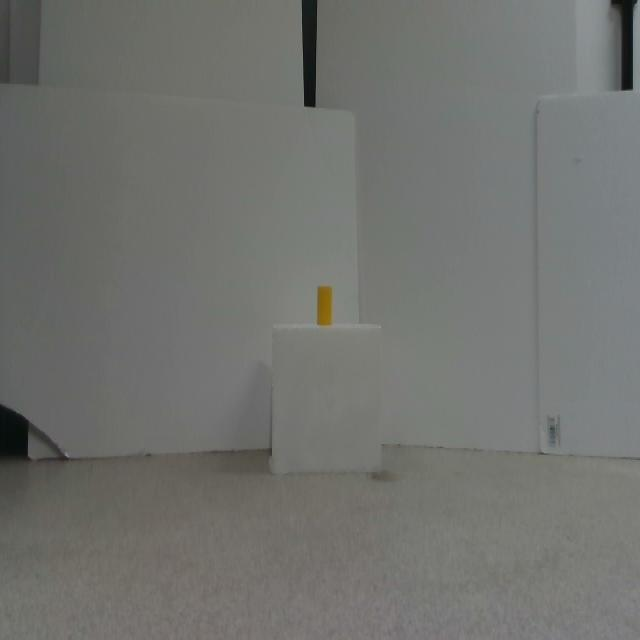yellow_cylinder: (317, 285, 333, 326)
